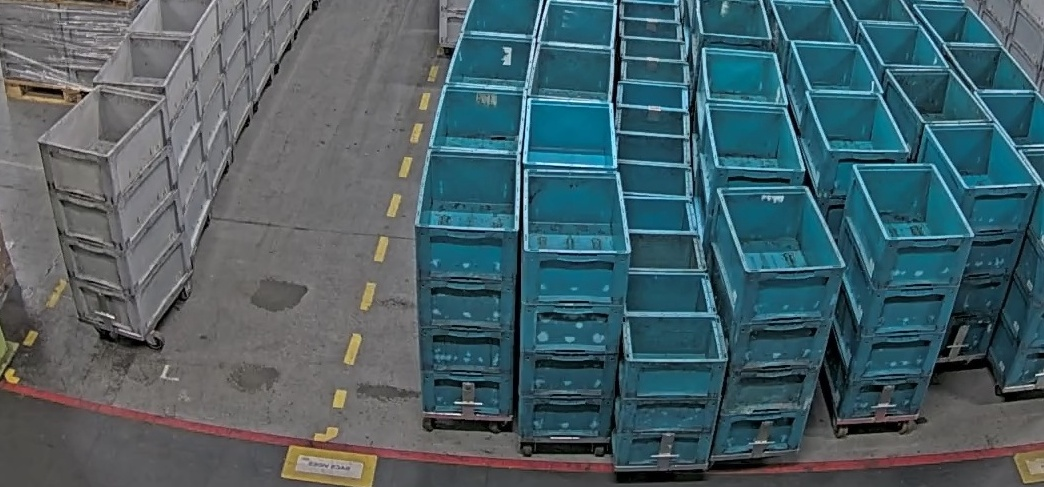4G: (39, 87, 194, 337)
B4: (823, 163, 972, 422), (709, 186, 845, 456), (520, 168, 631, 443), (916, 123, 1040, 366), (415, 148, 522, 421)
B8: (614, 271, 727, 467)
